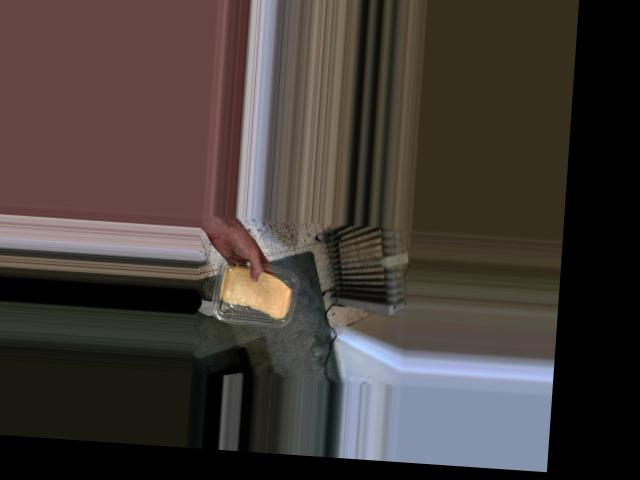cheese: (212, 257, 303, 327)
